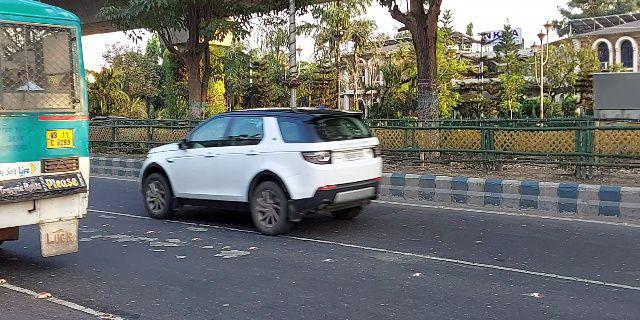Bus: (1, 1, 95, 263)
Car: (139, 103, 388, 238)
